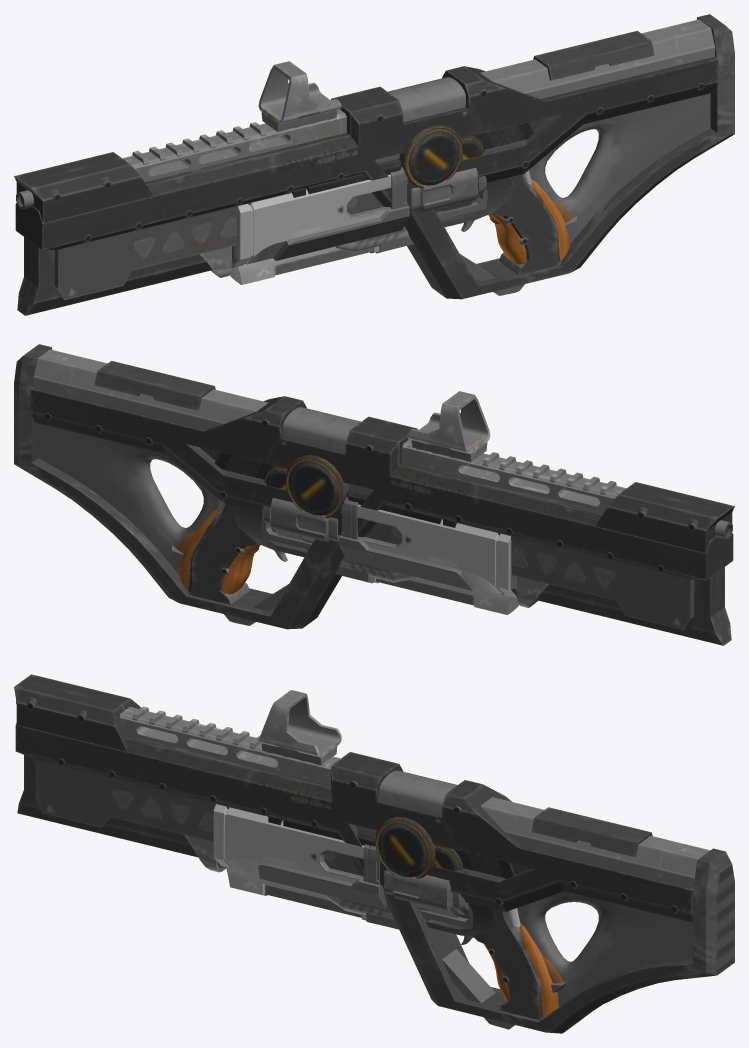
File: props.glb
The picture shows the model from 3 angles, top to bottom: view 1: azimuth 30°, elevation 25°; view 2: azimuth 150°, elevation 25°; view 3: azimuth 330°, elevation 25°; orthographic projection.
Parts seen in each view (by area): view 1: prop_rifle, prop_revolver, prop_pistol; view 2: prop_rifle, prop_revolver, prop_pistol; view 3: prop_rifle, prop_revolver, prop_pistol.
Part boxes in pixels (<box>): prop_rifle: <box>14,14,734,315</box>; prop_revolver: <box>230,166,576,295</box>; prop_pistol: <box>292,122,569,274</box>; prop_rifle: <box>14,344,734,645</box>; prop_revolver: <box>172,496,518,625</box>; prop_pistol: <box>179,452,456,604</box>; prop_rifle: <box>14,674,734,1033</box>; prop_revolver: <box>213,804,566,1029</box>; prop_pistol: <box>268,815,558,1020</box>.
Bounding box in the file's own units: 1.06 × 0.3951 × 0.087.
Materials: 3 (3 with a texture image).
